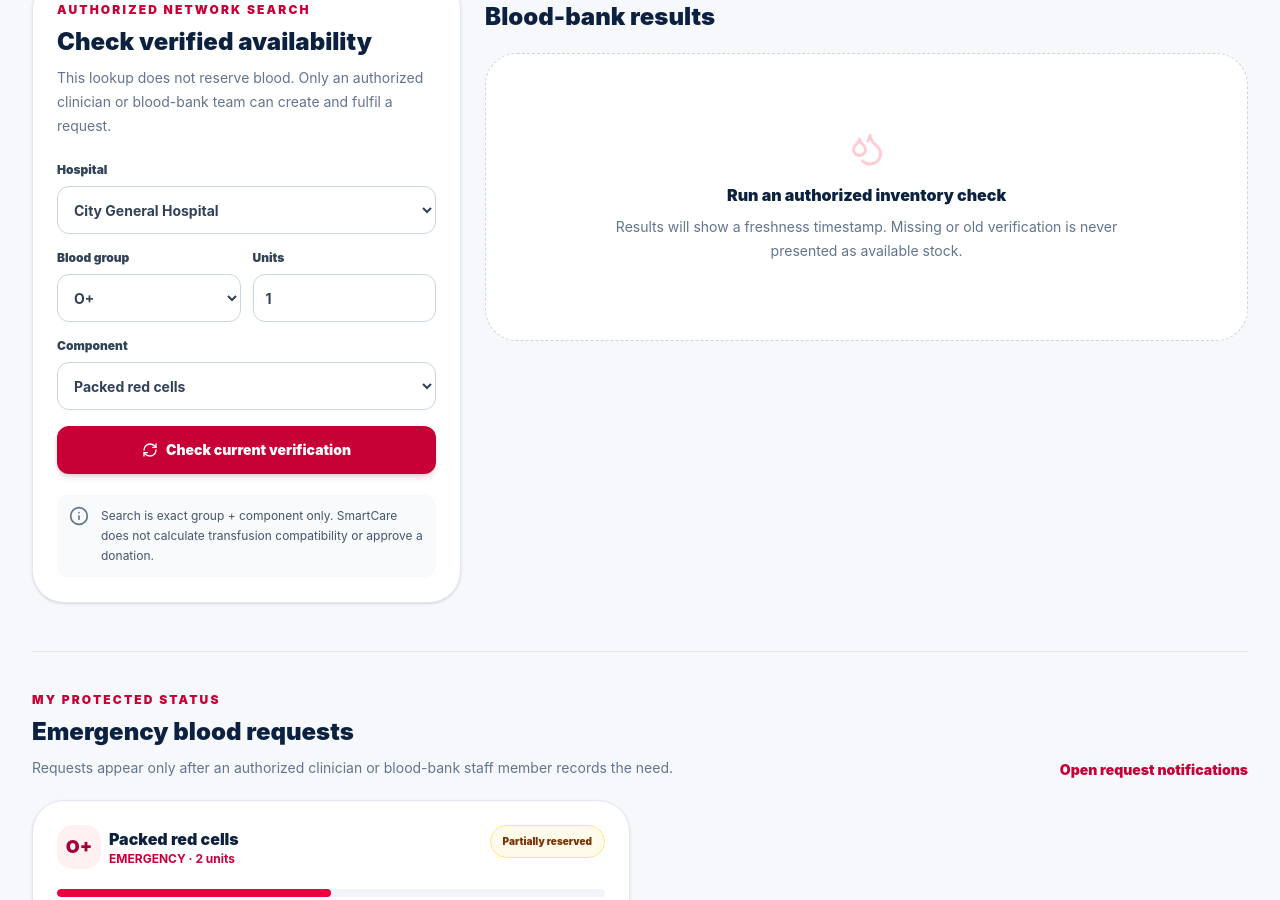
Test: BloodSupportPage › shows owner-only request status and requires an explicit verified availability search
(page scrolled)
Check: the text "Partially reserved" is shown, box [490, 825, 605, 858]
Check: the text "does not calculate transfusion compatibility" is shown, box [101, 508, 423, 563]
Click the button "Check current verification".
click(247, 450)  # box [57, 426, 436, 474]
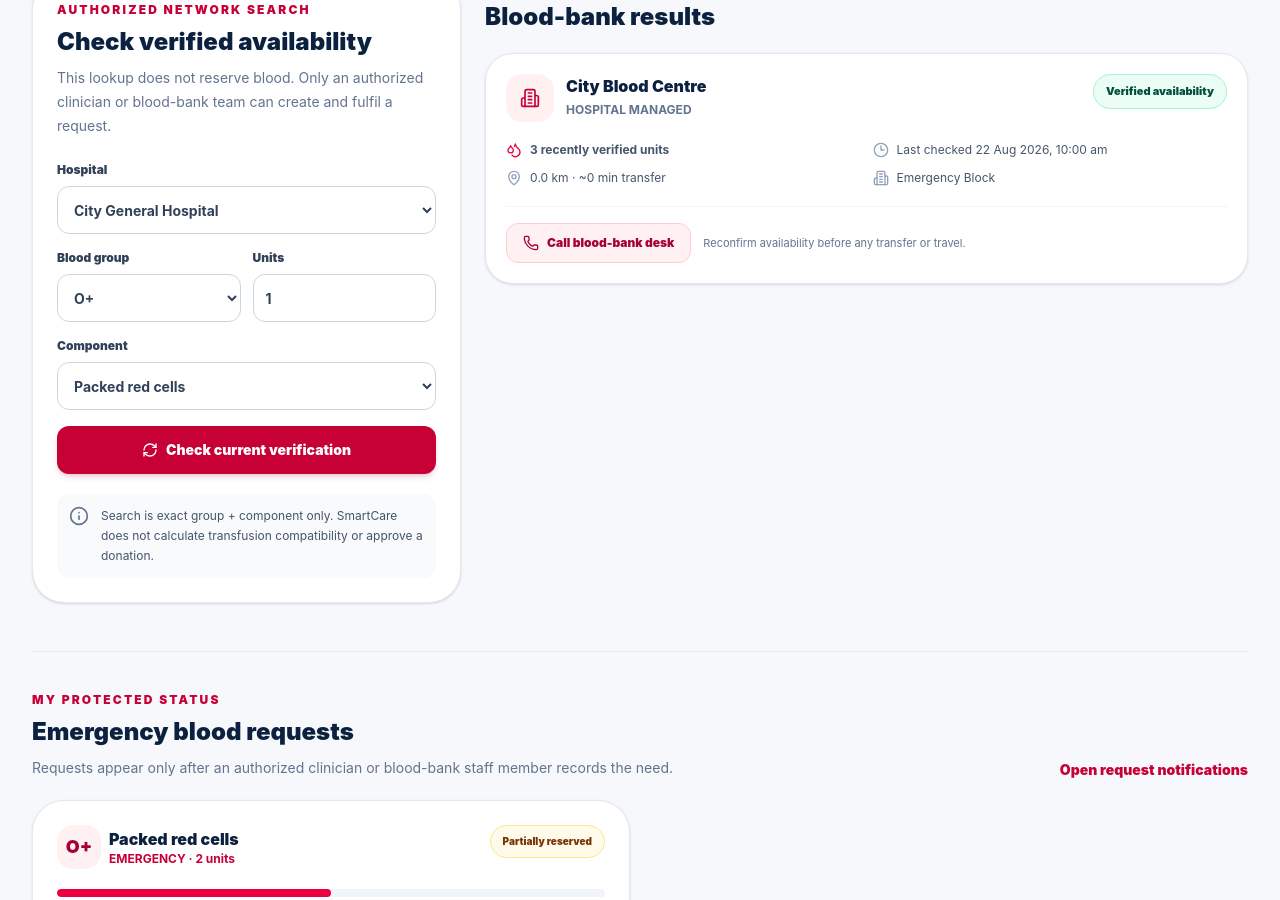
Check: the text "3 recently verified units" is shown, box [530, 142, 669, 158]
Check: the text "Reconfirm availability before any transfer or travel." is shown, box [703, 235, 966, 251]
